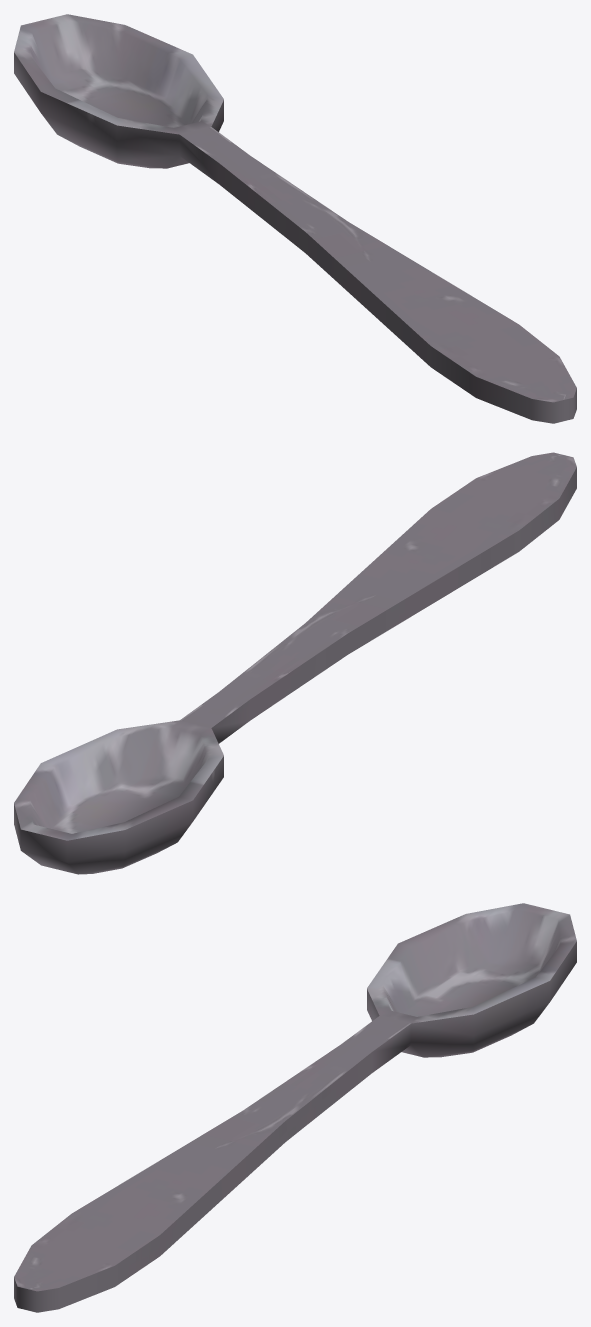
The model's file is Table_Spoon.glb.
The picture shows the model from 3 angles, top to bottom: view 1: azimuth 30°, elevation 25°; view 2: azimuth 150°, elevation 25°; view 3: azimuth 330°, elevation 25°; orthographic projection.
Visible parts, largest first — view 1: Table_Spoon; view 2: Table_Spoon; view 3: Table_Spoon.
Boxes of the visible parts, x1,y1,x2,y2 form: Table_Spoon: [14, 14, 576, 423]; Table_Spoon: [14, 452, 576, 874]; Table_Spoon: [14, 903, 576, 1312].
Size of the model in its own units: 0.046 by 0.0182 by 0.2718.
Materials: 1 (1 with a texture image).
